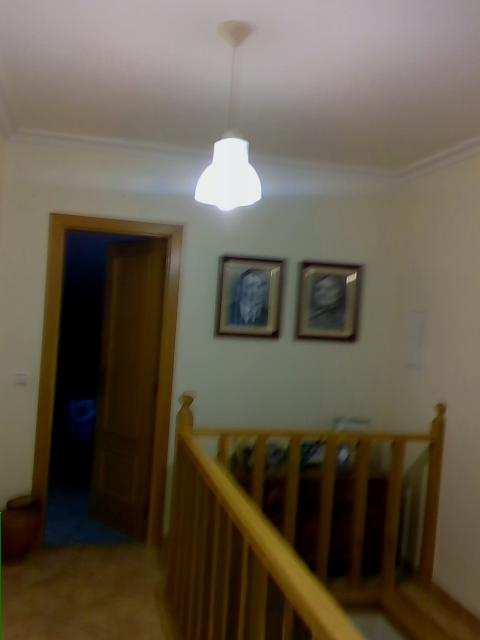semi_door: (28, 211, 183, 552)
